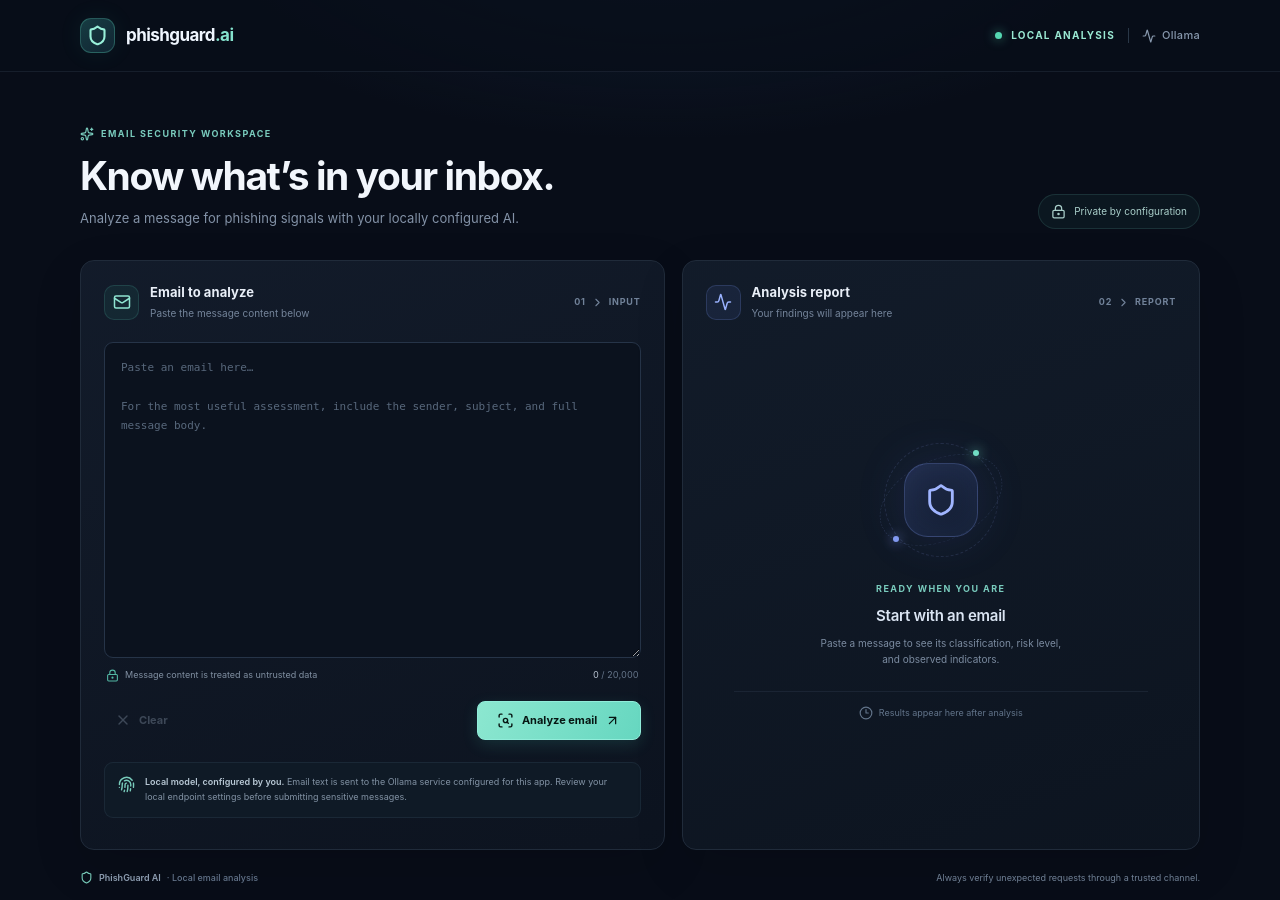
PhishGuard dashboard › shows a helpful API error and allows clearing the input
This screenshot has width=1280, height=900.
Replace the text in the text box named "Email text" with "A message to assess" at (372, 500), box [104,342,641,658]
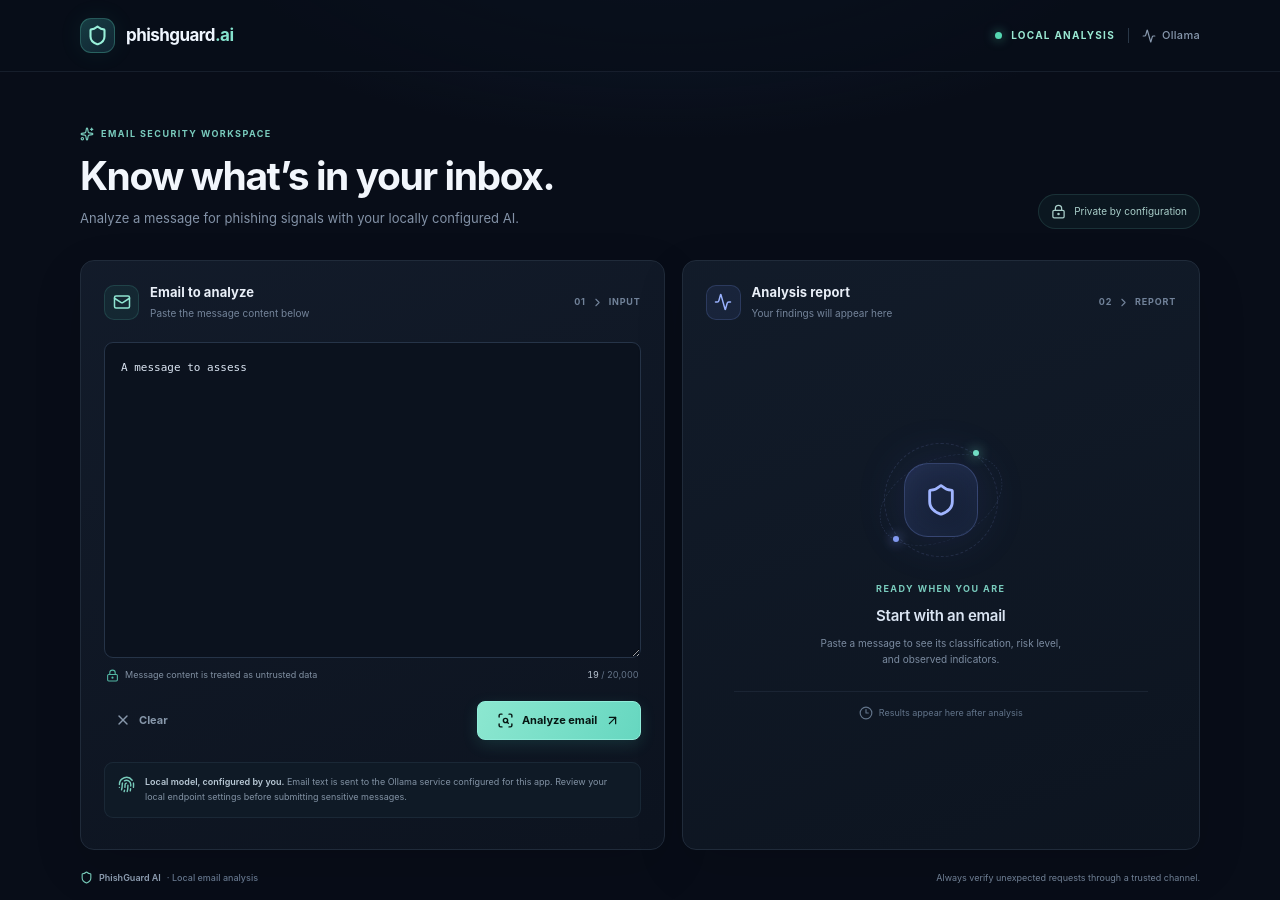
Click the button "Analyze email" at (559, 720), box [477,701,641,740]
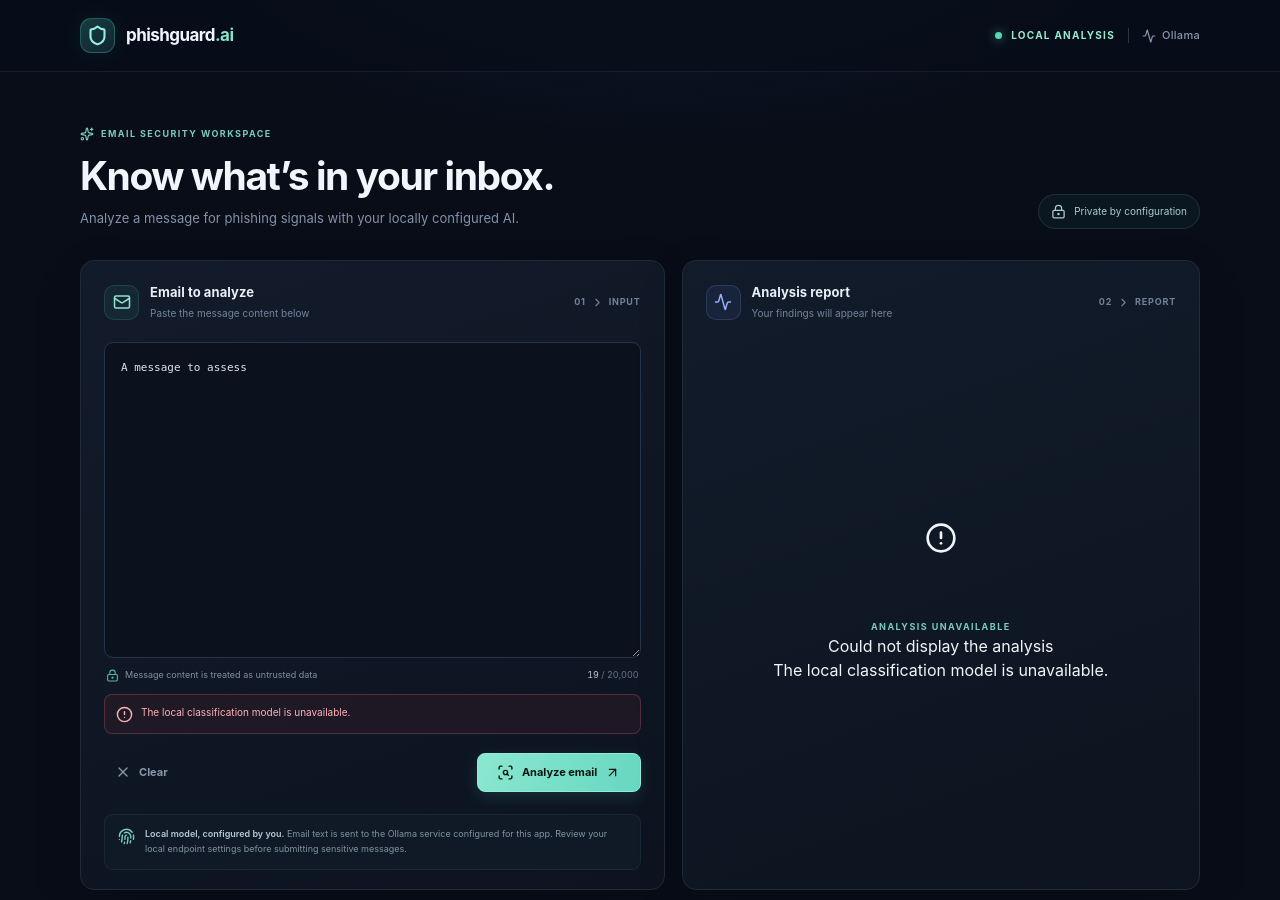
Check: the message "The local classification model is unavailable." is shown, box [104,694,641,734]
Click the button "Clear" at (141, 772), box [104,753,179,792]
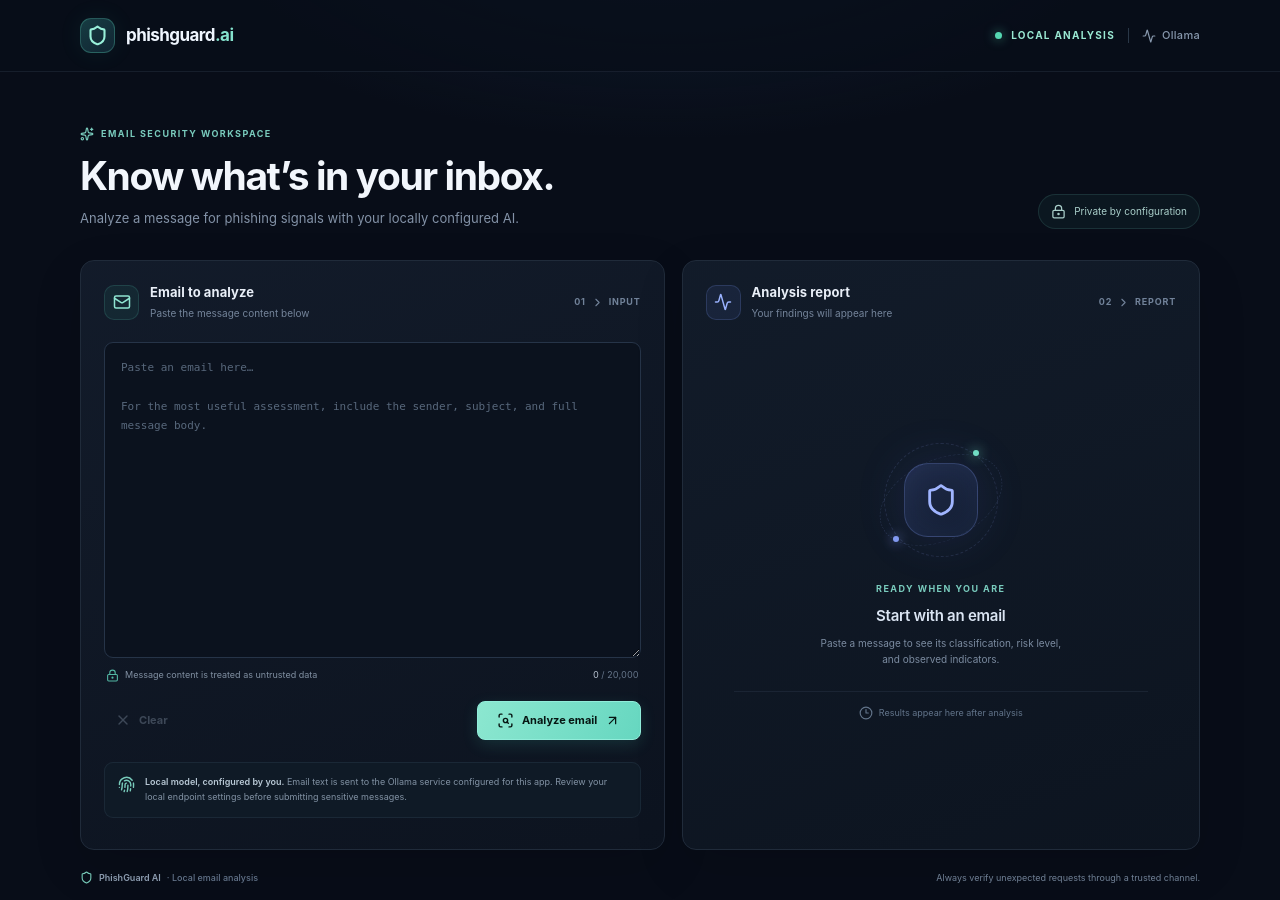
Check: the text box named "Email text" is empty, box [104,342,641,658]
Check: the message "The local classification model is unavailable." is gone
Check: the heading "Start with an email" is shown, box [876,605,1006,628]
